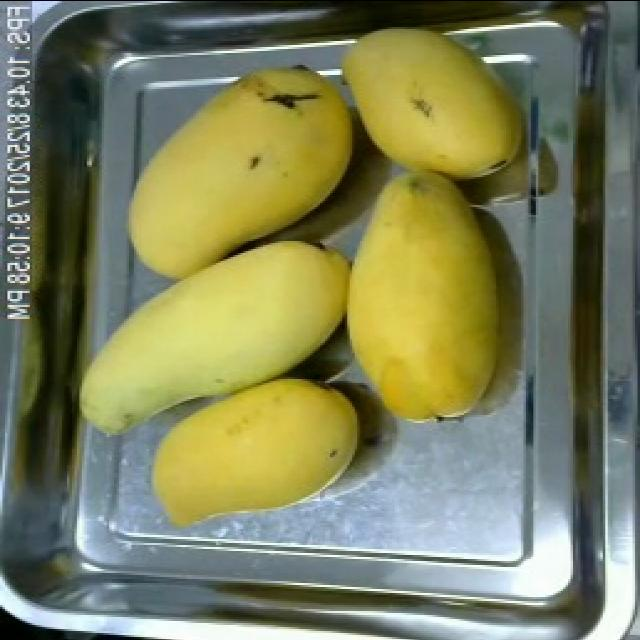fruit: (67, 224, 365, 460), (119, 64, 372, 288), (325, 158, 521, 430), (134, 360, 372, 528), (338, 14, 536, 196)
